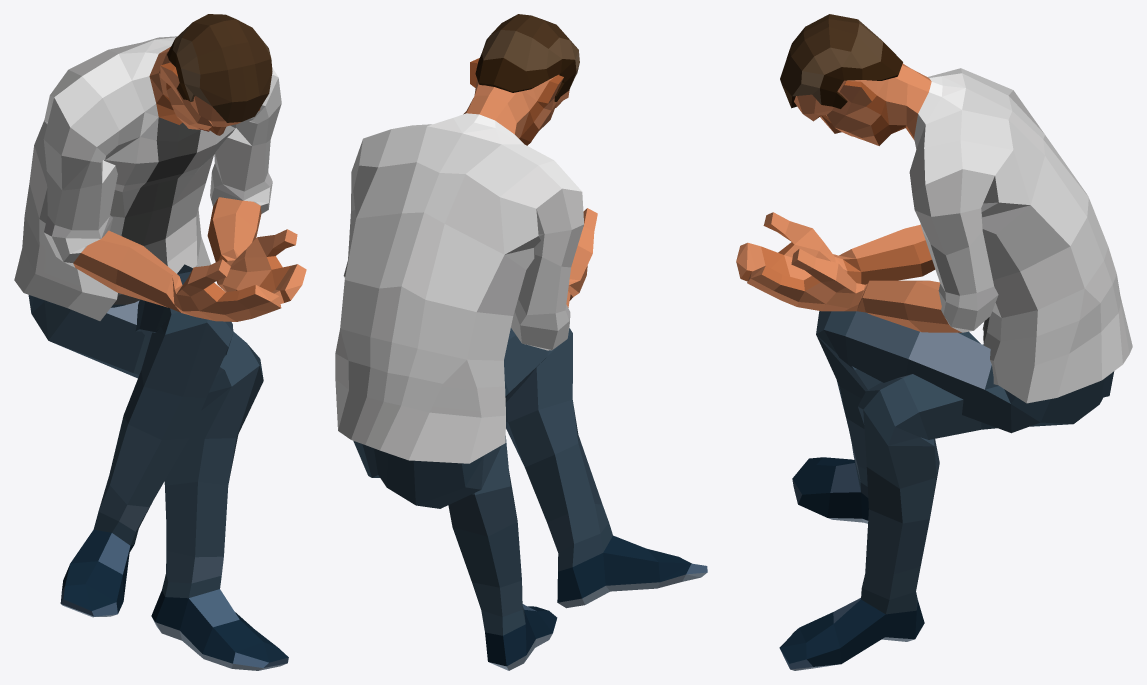
Rendered from sofazhuren.glb.
3 views of the same model, side by side, from view 1: azimuth 30°, elevation 25°; view 2: azimuth 150°, elevation 25°; view 3: azimuth 270°, elevation 25° (orthographic). The views are drawn at different scales.
Visible parts, largest first — view 1: huitugou_2139_342; view 2: huitugou_2139_342; view 3: huitugou_2139_342.
Part boxes in pixels (x1=…): huitugou_2139_342: x1=14, y1=14, x2=306, y2=670; huitugou_2139_342: x1=335, y1=14, x2=707, y2=670; huitugou_2139_342: x1=736, y1=14, x2=1132, y2=670.
Size of the model in its own units: 0.5985 by 1.27 by 0.722.
1 material, 1 textured.
